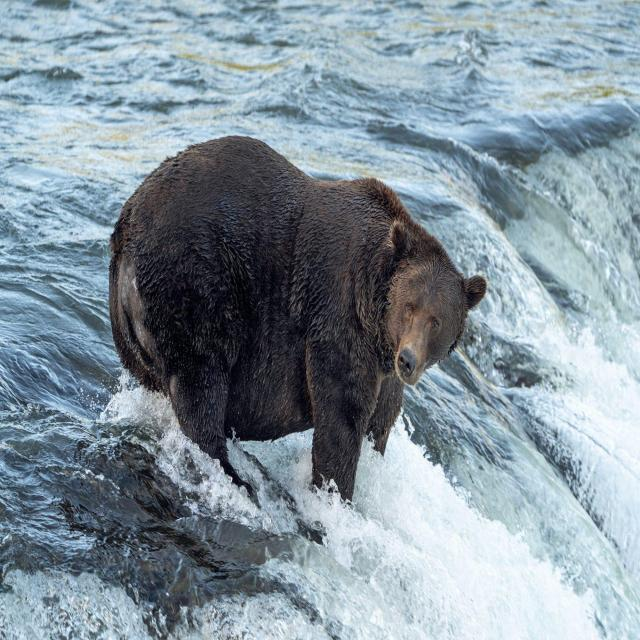Bear: (108, 136, 488, 505)
